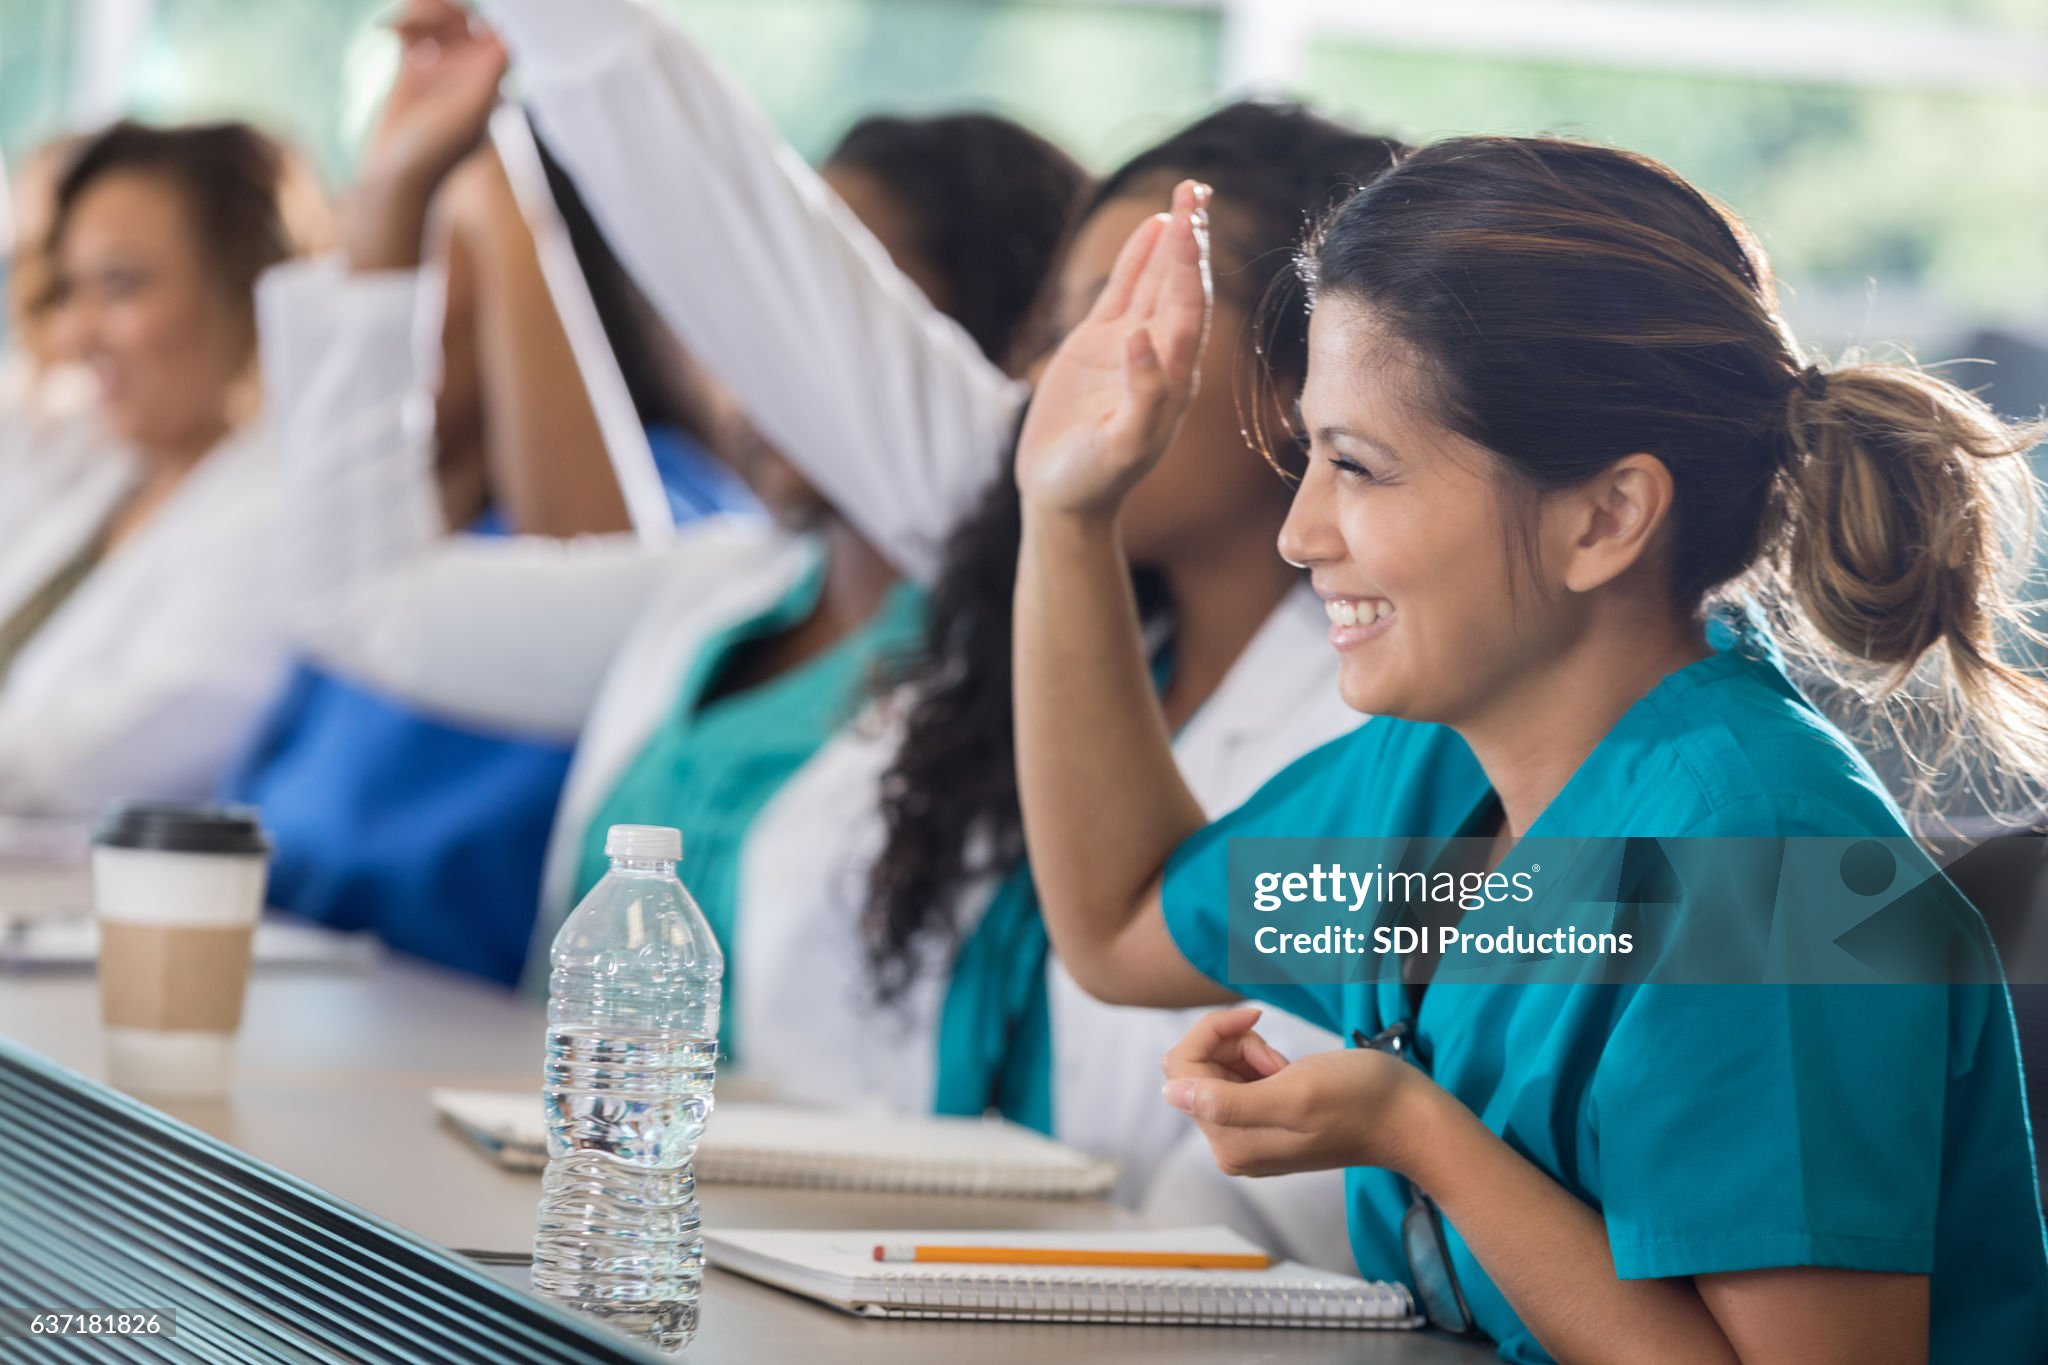entre-50-75-porcento: (9, 0, 2043, 1354)
